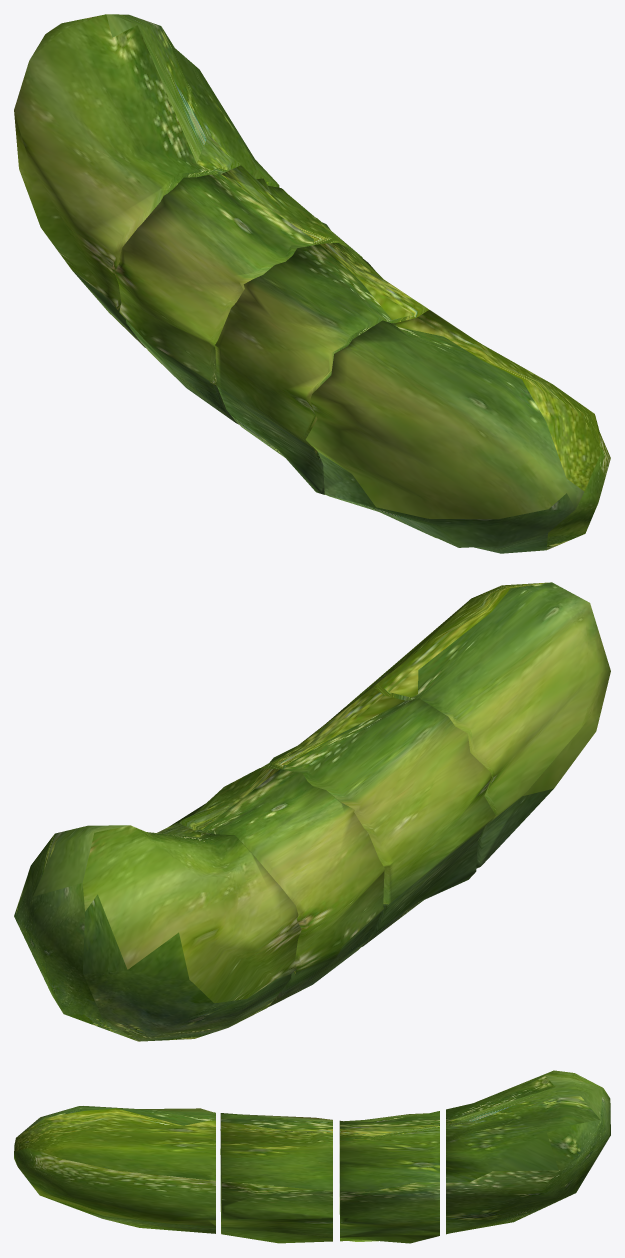
Rendered from cucumber_3cut_final1.obj.
The picture shows the model from 3 angles, top to bottom: view 1: azimuth 30°, elevation 25°; view 2: azimuth 150°, elevation 25°; view 3: azimuth 270°, elevation 25°; orthographic projection. The views are drawn at different scales.
Parts seen in each view (by area): view 1: cucumber, cucumber.002, cucumber.003, cucumber.001; view 2: cucumber.002, cucumber, cucumber.001, cucumber.003; view 3: cucumber, cucumber.002, cucumber.001, cucumber.003.
Boxes of the visible parts, bbox=[...] form: cucumber: bbox=[305, 310, 610, 553]; cucumber.002: bbox=[14, 14, 279, 347]; cucumber.003: bbox=[114, 165, 362, 424]; cucumber.001: bbox=[215, 243, 428, 494]; cucumber.002: bbox=[14, 822, 301, 1041]; cucumber: bbox=[347, 582, 610, 868]; cucumber.001: bbox=[261, 688, 495, 946]; cucumber.003: bbox=[169, 768, 385, 1006]; cucumber: bbox=[14, 1106, 215, 1233]; cucumber.002: bbox=[446, 1070, 610, 1234]; cucumber.001: bbox=[220, 1113, 332, 1243]; cucumber.003: bbox=[339, 1111, 439, 1243].
Bounding box in the file's own units: 0.0705 × 0.0968 × 0.3187.
